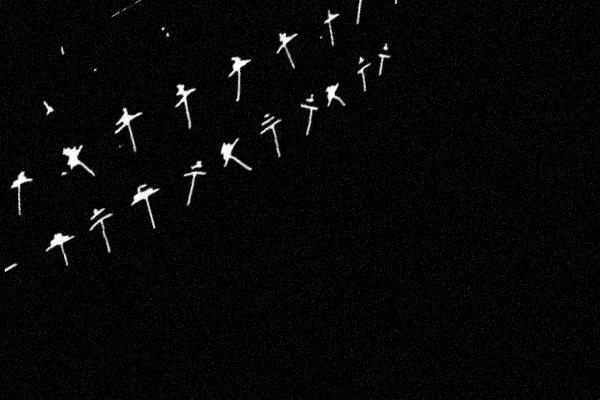ground: (120, 167, 168, 224), (104, 89, 151, 145), (36, 213, 83, 267), (77, 190, 122, 244), (163, 66, 203, 119), (218, 39, 258, 89), (251, 97, 288, 147), (2, 159, 40, 205), (54, 133, 90, 181), (212, 127, 248, 174), (267, 15, 303, 61), (176, 148, 213, 191), (293, 83, 323, 125), (317, 72, 347, 113), (316, 0, 345, 37), (349, 46, 375, 83), (0, 243, 25, 281), (373, 34, 396, 67), (346, 0, 376, 14)
